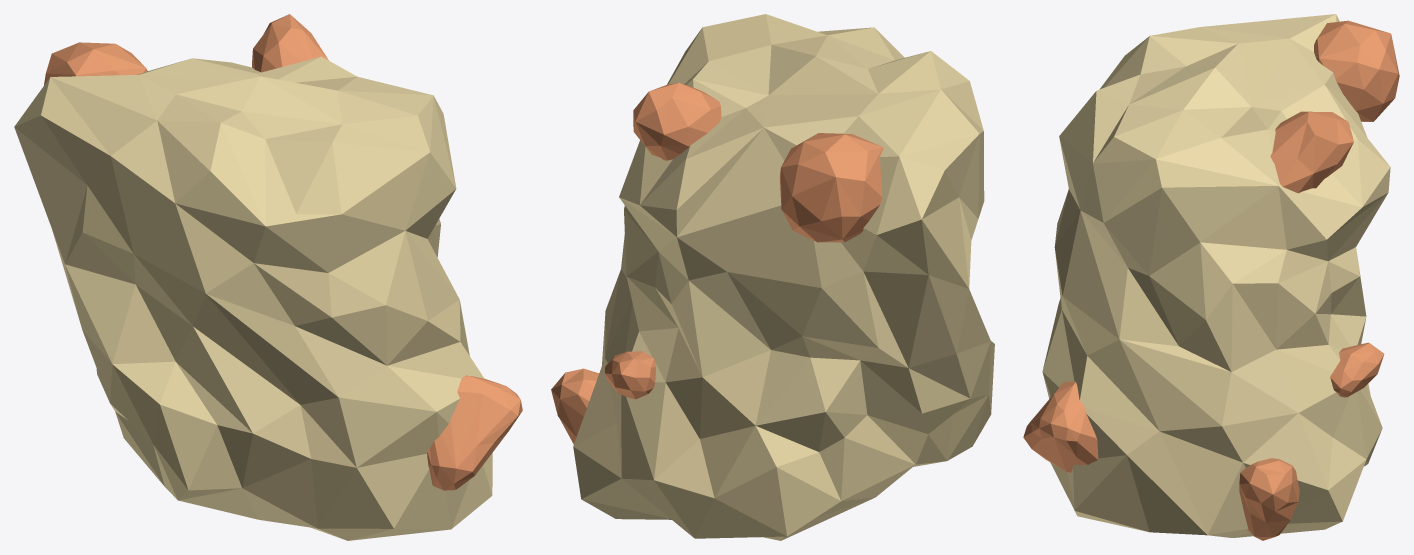
Rendered from StoneOre (32).fbx.
3 renders of one model, left to right at view 1: azimuth 30°, elevation 25°; view 2: azimuth 150°, elevation 25°; view 3: azimuth 270°, elevation 25°, orthographic. The views are drawn at different scales.
Parts seen in each view (by area): view 1: Asteroid319; view 2: Asteroid319; view 3: Asteroid319.
Part boxes in pixels (bbox=[...]): Asteroid319: bbox=[14, 14, 522, 540]; Asteroid319: bbox=[551, 14, 994, 540]; Asteroid319: bbox=[1023, 14, 1399, 540].
Bounding box in the file's own units: 567 × 622 × 502.
